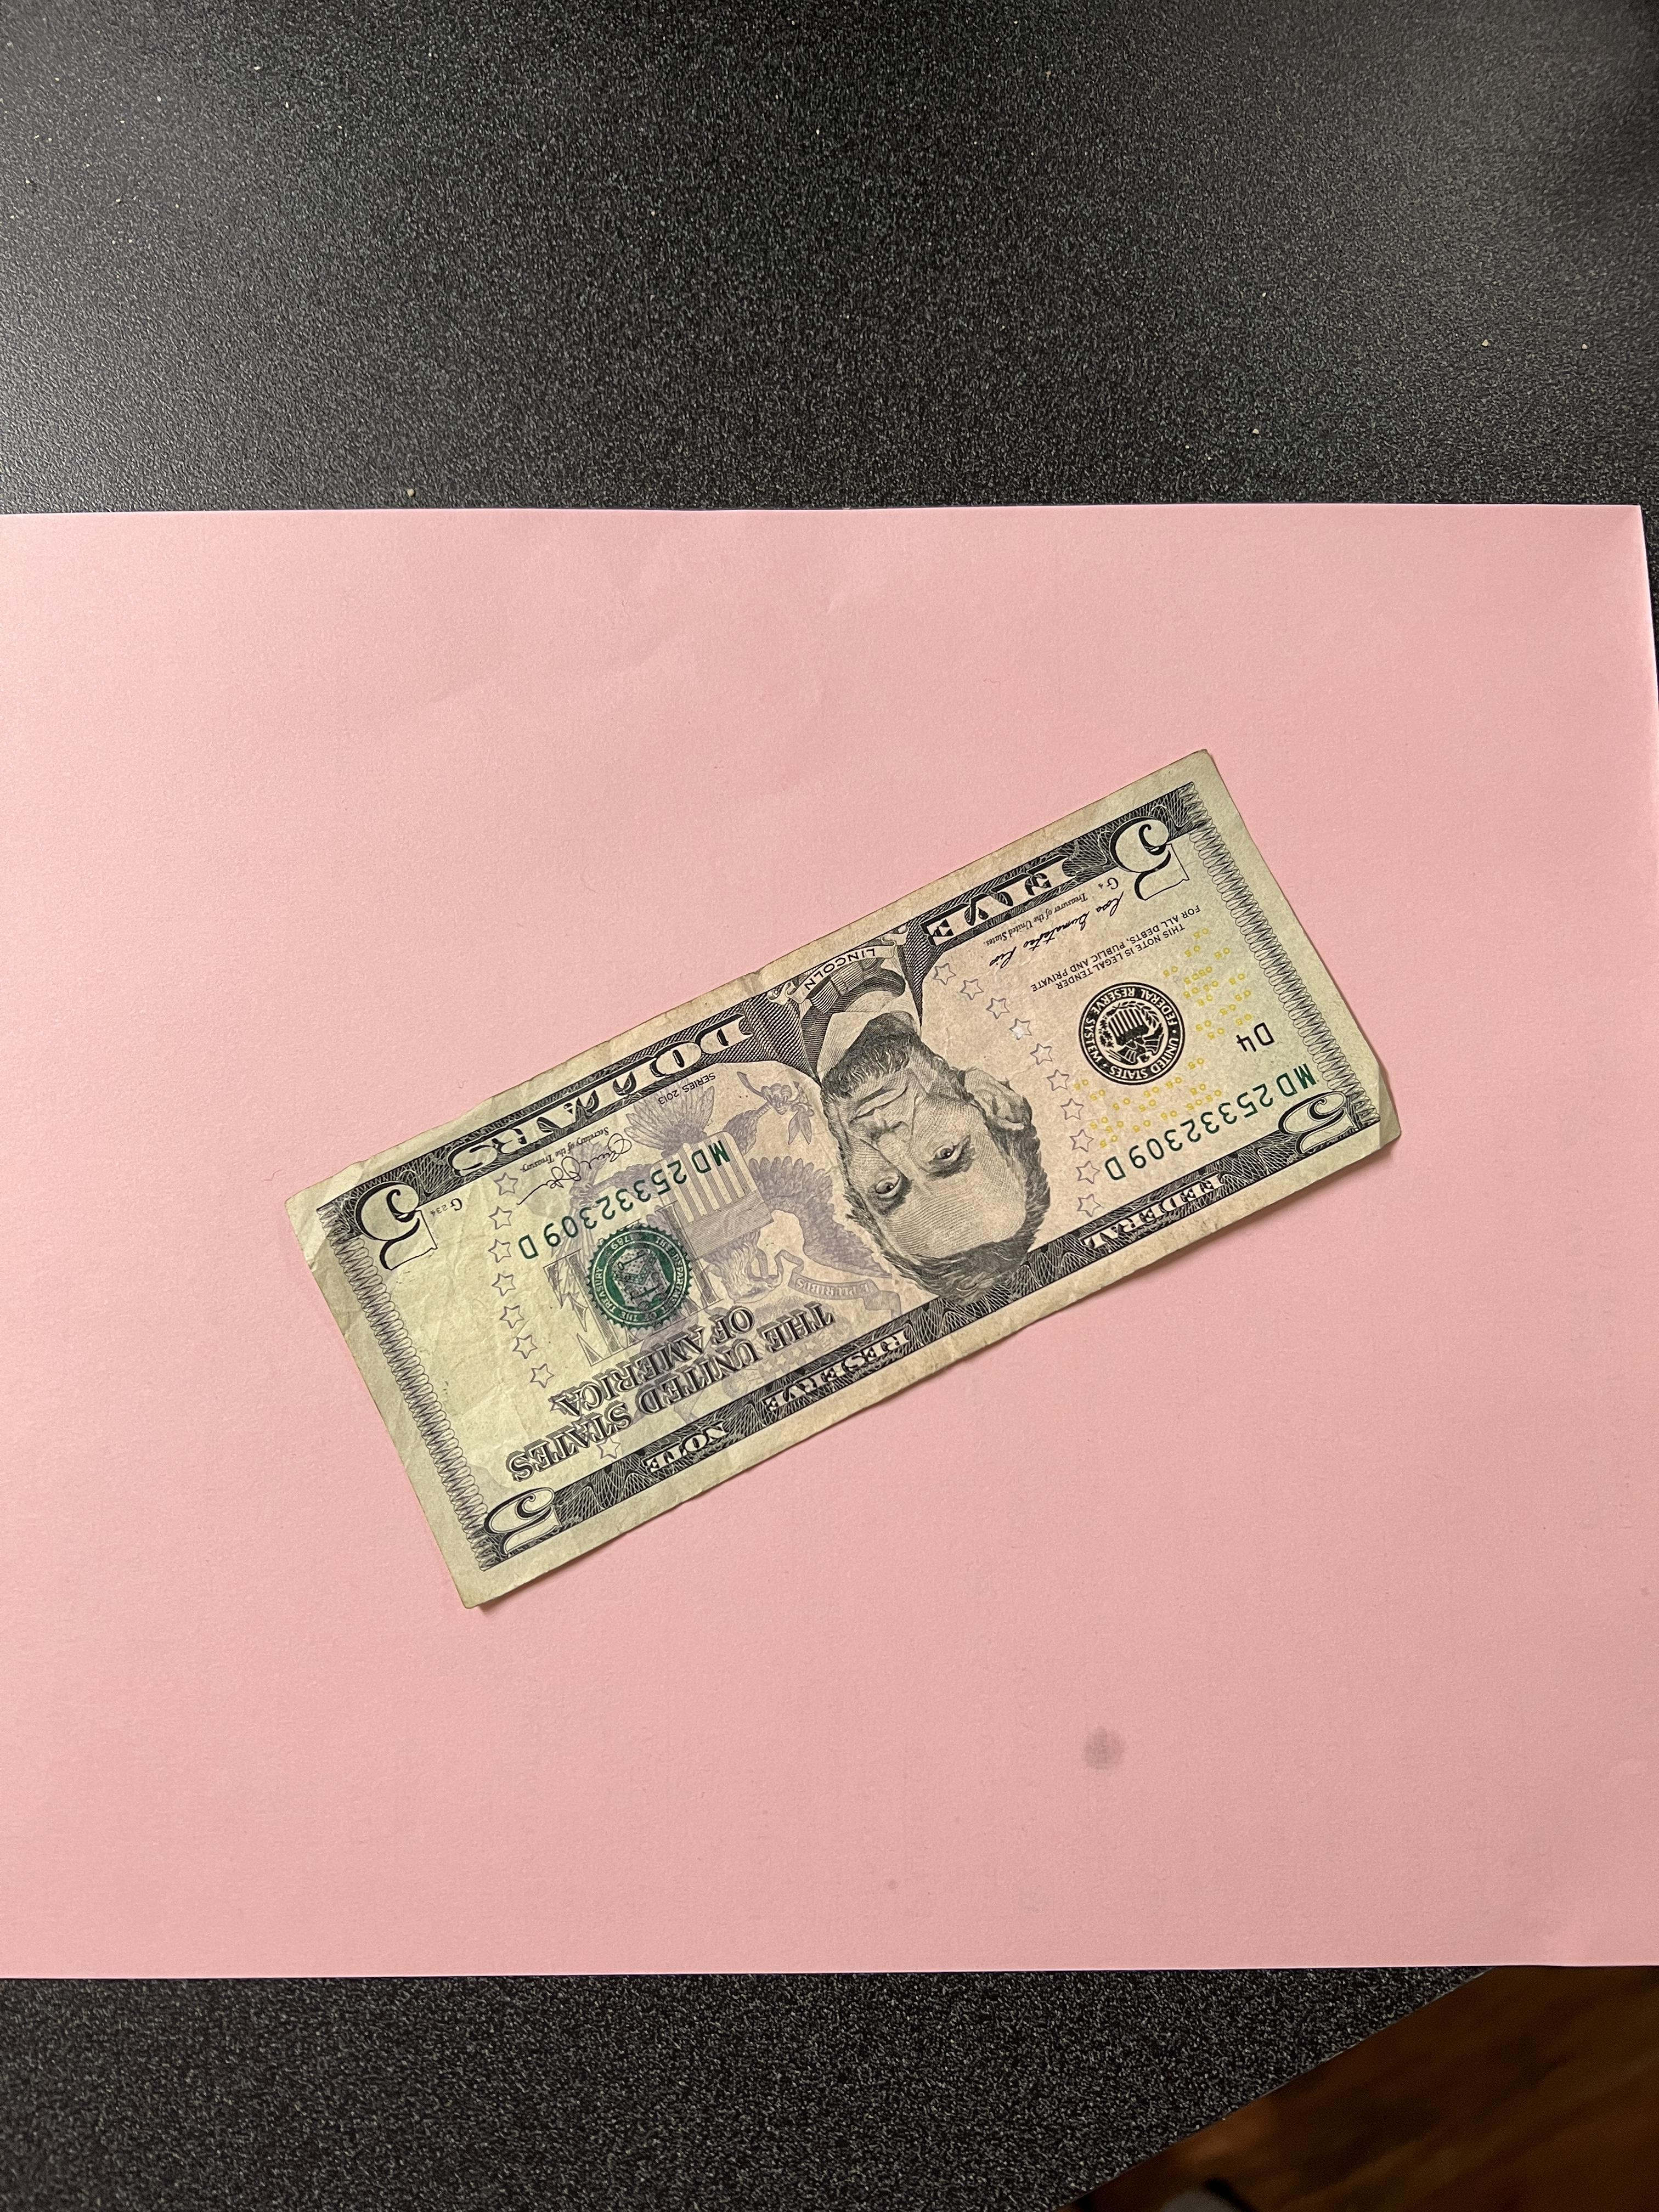FiveBill: (282, 732, 1434, 1637)
